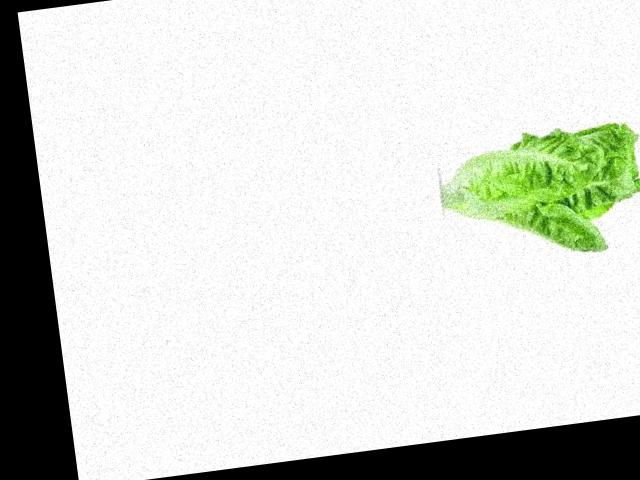lettuce: (487, 90, 640, 234)
